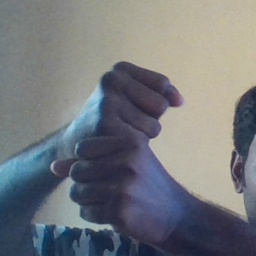G: (62, 53, 186, 229)
